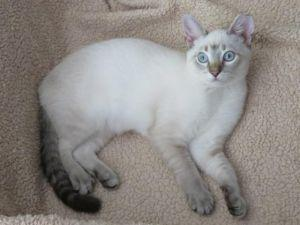siamese: (180, 9, 262, 95)
